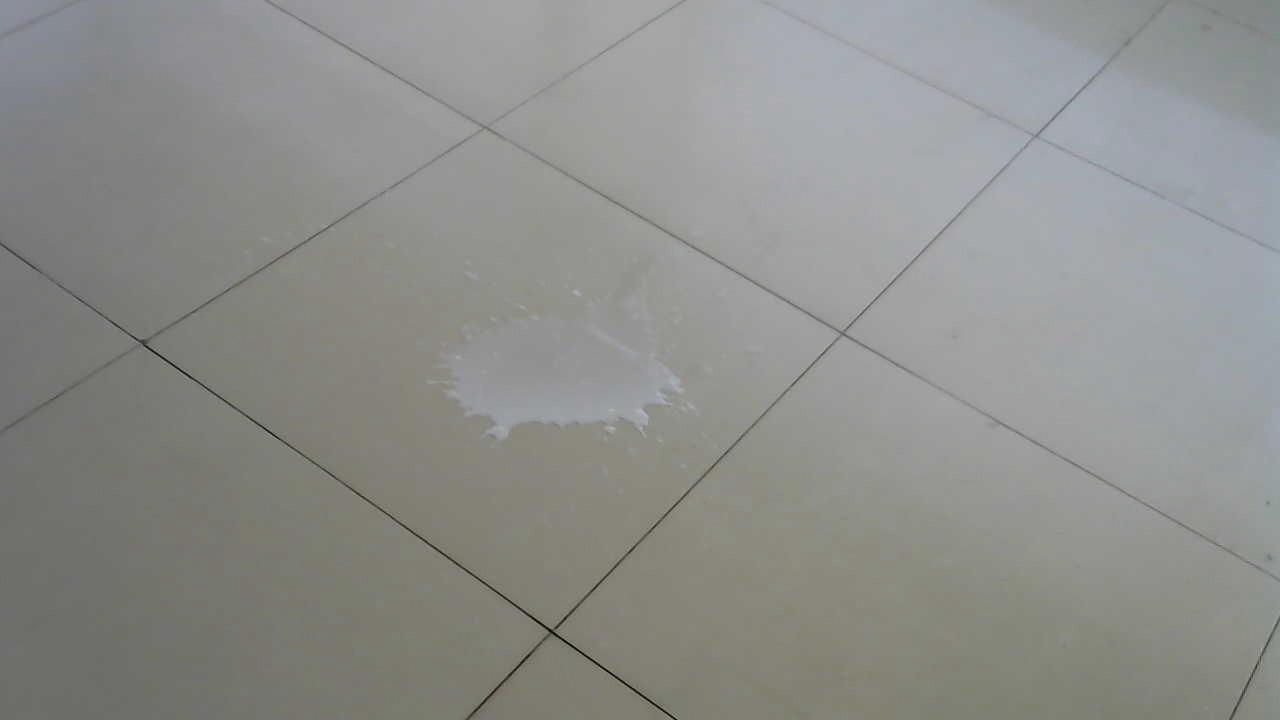dirty_floor: (422, 279, 704, 446)
